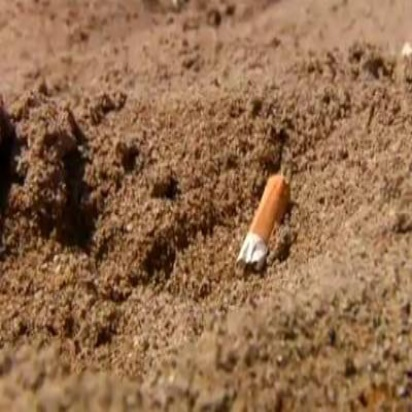cigarette: (230, 168, 297, 271)
